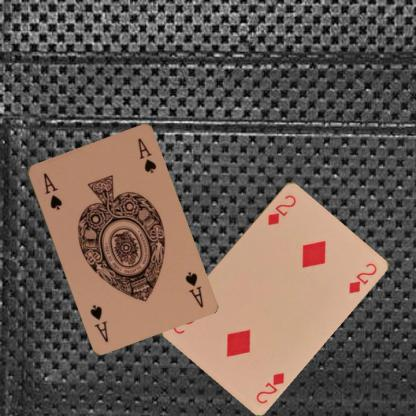2d: (253, 369, 286, 405), (264, 192, 298, 226)
As: (40, 170, 63, 211), (182, 268, 205, 309)
